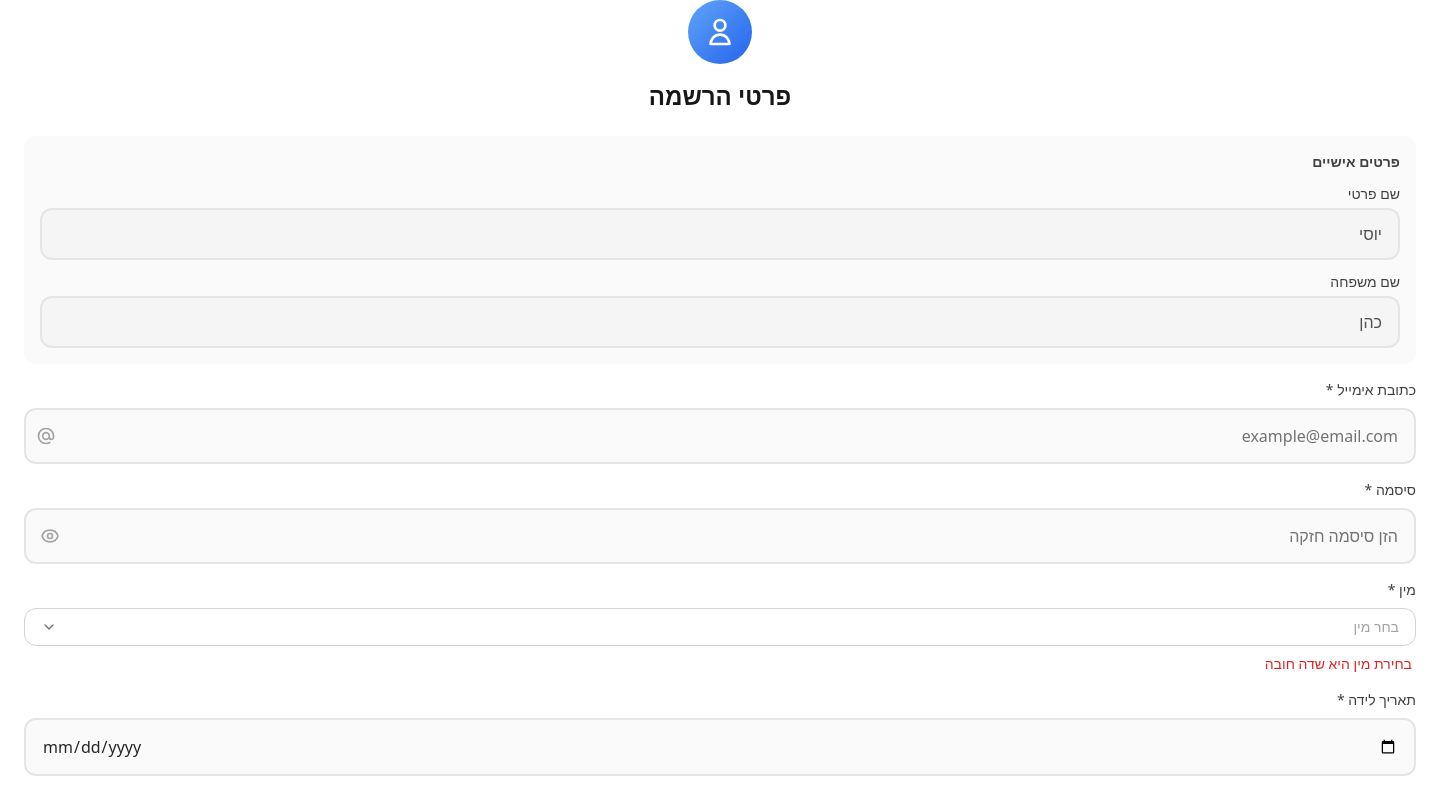
Test: RegistrationDetailsStep Component › rendering + UI › reveals the gender options after opening the Listbox
The width and height of the screenshot is (1440, 793).
Click the button "בחר מין" at (1376, 626), box [24, 608, 1416, 646]
(page scrolled)
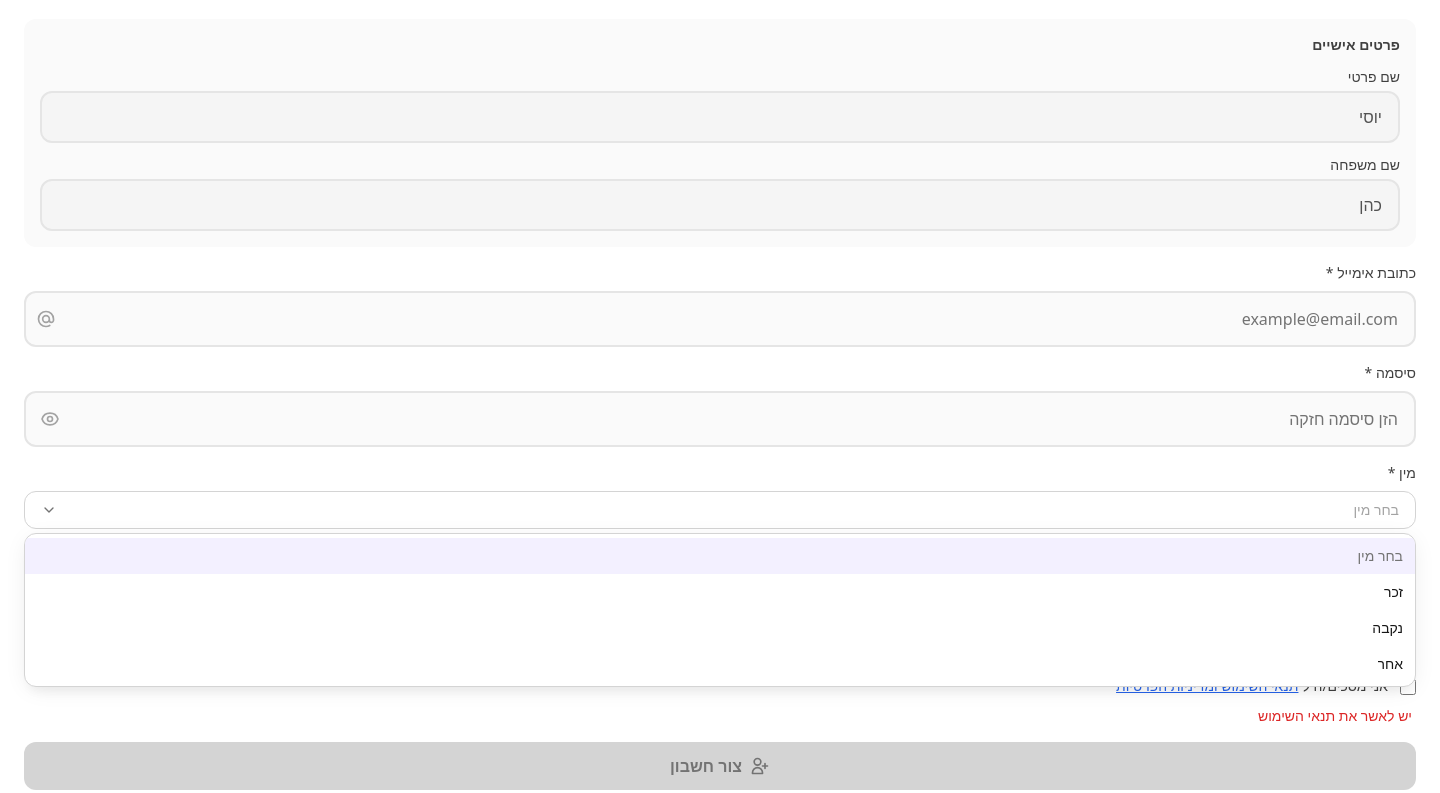
Result: the option "זכר" is shown at [1384, 582, 1403, 601]
Result: the option "נקבה" is shown at [1372, 618, 1403, 637]
Result: the option "אחר" is shown at [1378, 654, 1403, 673]
